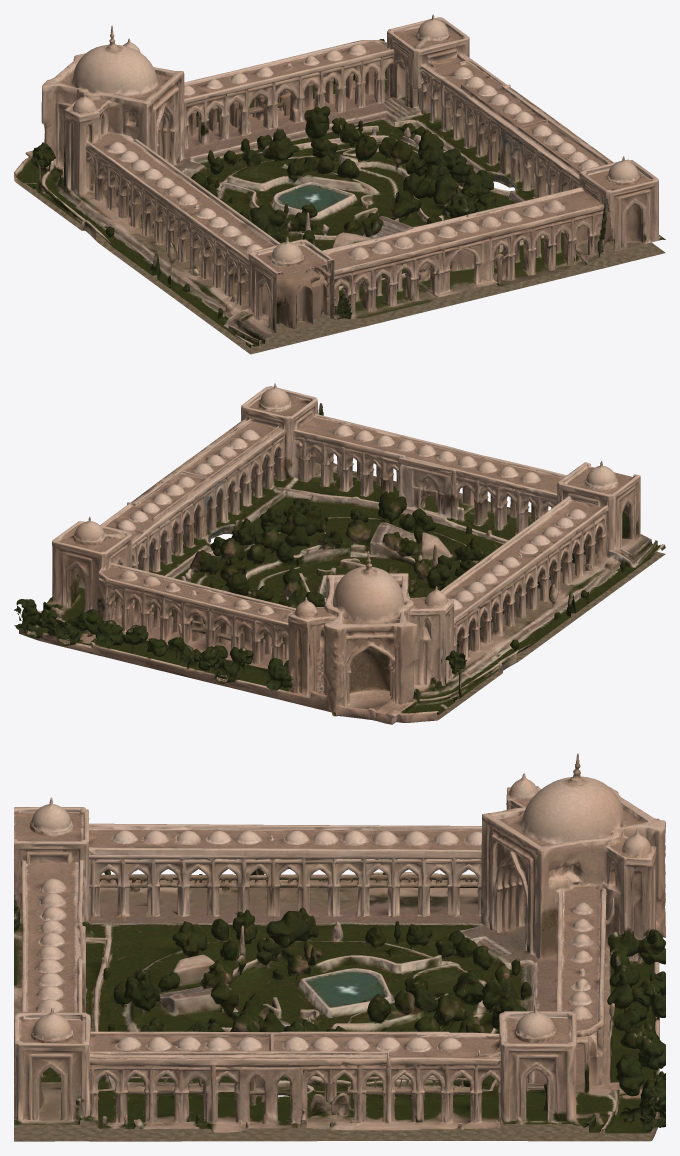
The model's file is courtyard_complex.glb.
The picture shows the model from 3 angles, top to bottom: view 1: azimuth 30°, elevation 25°; view 2: azimuth 150°, elevation 25°; view 3: azimuth 270°, elevation 25°; orthographic projection. The views are drawn at different scales.
Parts seen in each view (by area): view 1: Mesh_0; view 2: Mesh_0; view 3: Mesh_0.
Part boxes in pixels (x1=…): Mesh_0: x1=14, y1=14, x2=665, y2=354; Mesh_0: x1=14, y1=383, x2=665, y2=724; Mesh_0: x1=14, y1=753, x2=665, y2=1141.
Size of the model in its own units: 57.75 by 19.27 by 62.
1 material, 1 textured.
